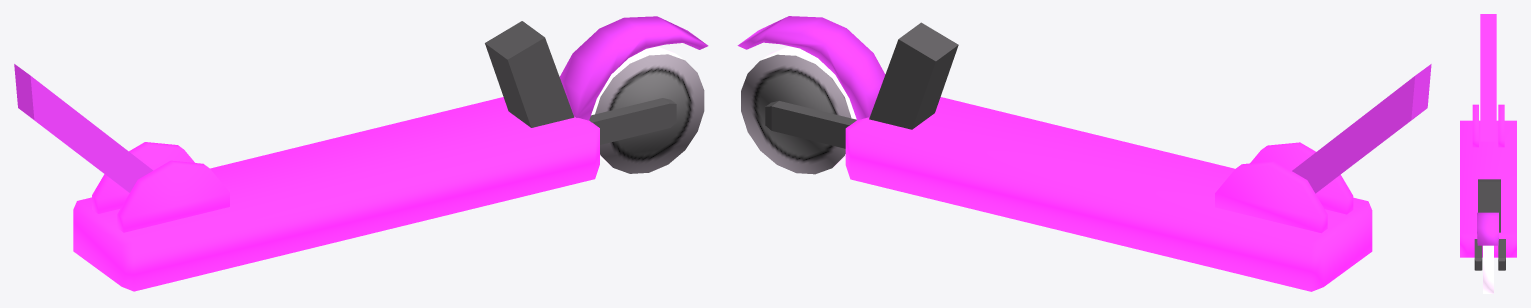
File: zeitmaschine_kaputt.fbx
The picture shows the model from 3 angles, left to right: view 1: azimuth 30°, elevation 25°; view 2: azimuth 150°, elevation 25°; view 3: azimuth 270°, elevation 25°; orthographic projection. The views are drawn at different scales.
Visible parts, largest first — view 1: Bodenplatte, Circle, Scharnier, Cube.002, Plane.001, Cube.001, Plane.002; view 2: Bodenplatte, Circle, Scharnier, Cube.002, Plane.001, Cube.001, Plane.002; view 3: Bodenplatte, Cube.001, Cube.002, Plane.001, Scharnier, Circle, Plane.002.
Part boxes in pixels (x1,y1,x2,y2): Bodenplatte: (73, 97, 599, 291); Circle: (591, 46, 704, 173); Scharnier: (92, 142, 229, 232); Cube.002: (485, 21, 574, 127); Plane.001: (559, 16, 708, 120); Cube.001: (14, 64, 152, 192); Plane.002: (589, 98, 676, 144); Bodenplatte: (845, 97, 1372, 291); Circle: (741, 46, 856, 174); Scharnier: (1215, 142, 1353, 233); Cube.002: (869, 22, 958, 129); Plane.001: (737, 16, 885, 120); Cube.001: (1292, 64, 1431, 193); Plane.002: (765, 101, 856, 148); Bodenplatte: (1460, 120, 1516, 257); Cube.001: (1480, 14, 1496, 141); Cube.002: (1478, 179, 1500, 232); Plane.001: (1477, 212, 1498, 245); Scharnier: (1472, 104, 1504, 147); Circle: (1483, 245, 1493, 293); Plane.002: (1474, 239, 1505, 270).
Bounding box in the file's own units: 268 × 95.14 × 39.16.
Materials: 5 (1 with a texture image).
